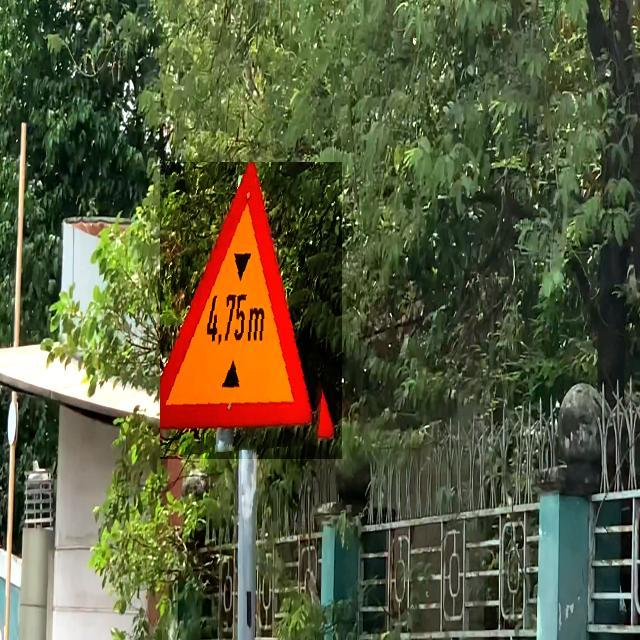S-509a: (160, 162, 342, 459)
